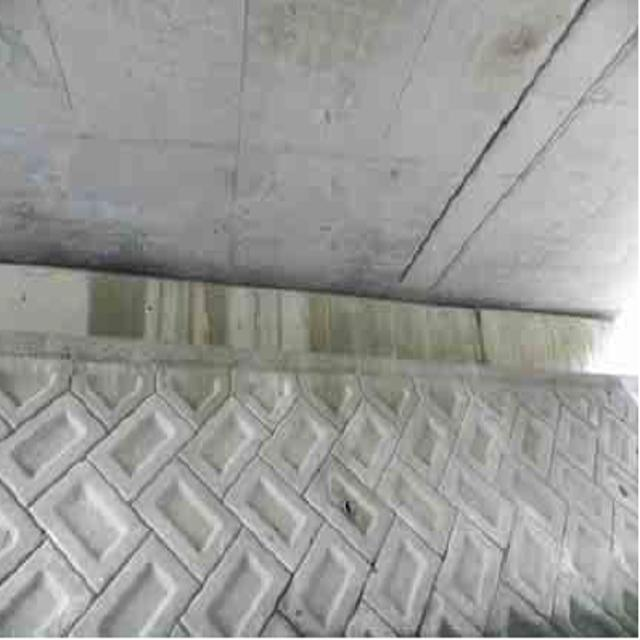leakage: (91, 257, 593, 373)
